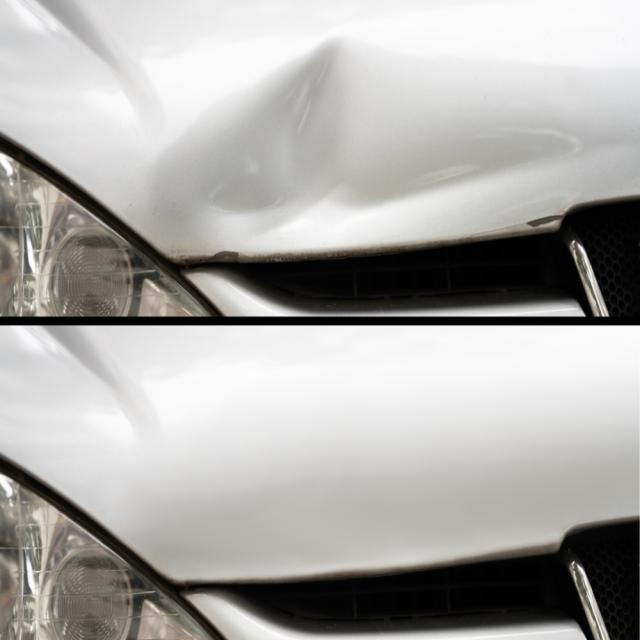dent: (168, 39, 579, 261)
